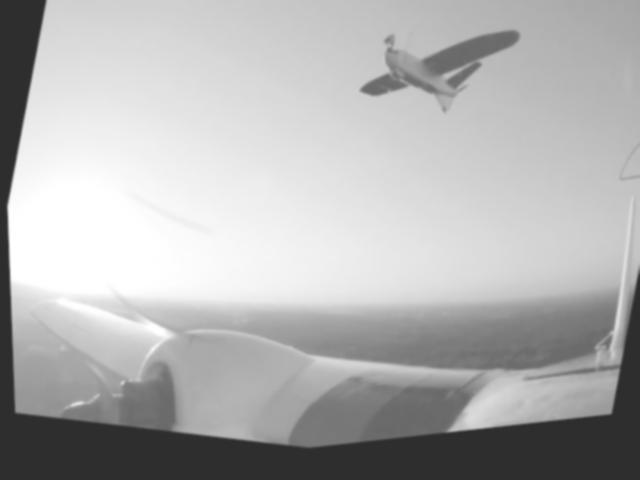hedef: (287, 0, 552, 179)
